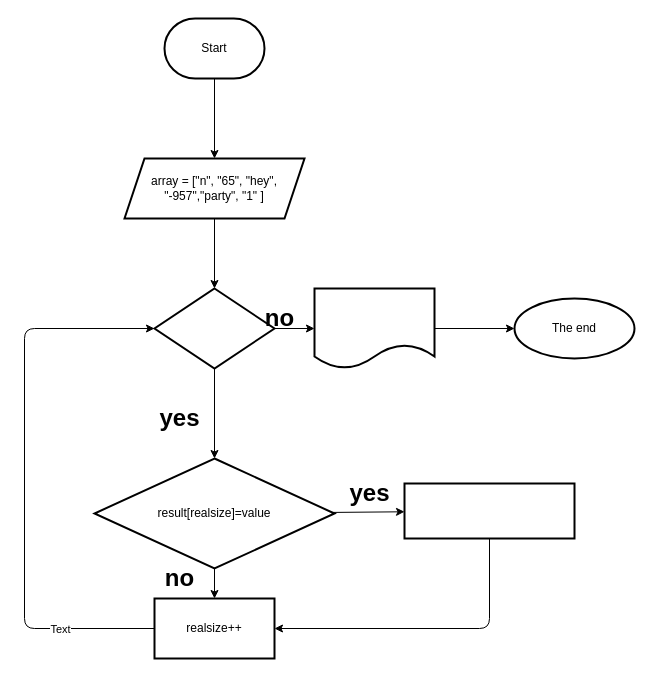
This 653x676 diagram has some shape labels left out. Each missing label, with the centre of its shape:
"number[index]=new.numbers[]" goes at (489,510).
"Print result[]" goes at (374,328).
"value.Lenght<=3" goes at (214,328).
